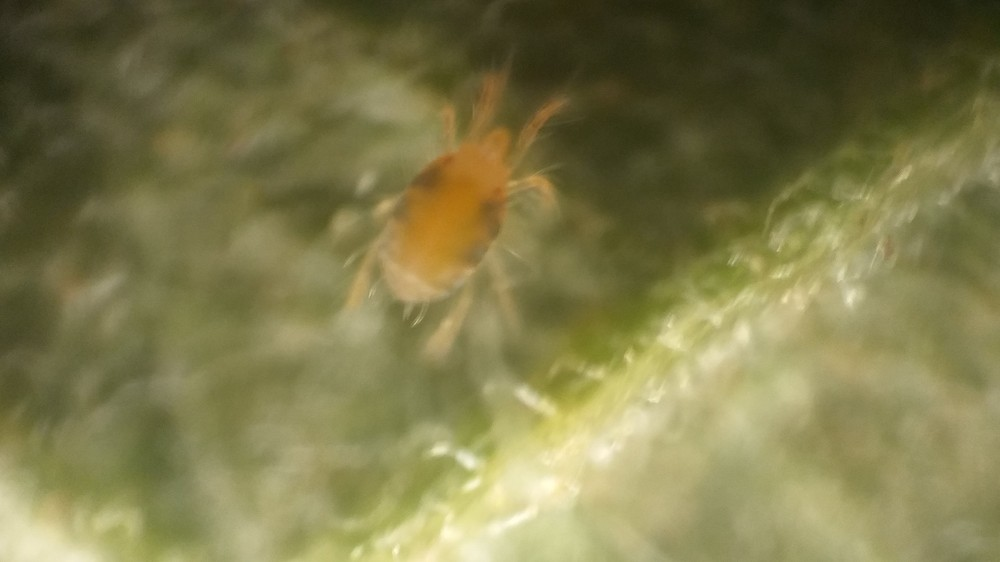Aracnido Rojo: (324, 47, 608, 351)
